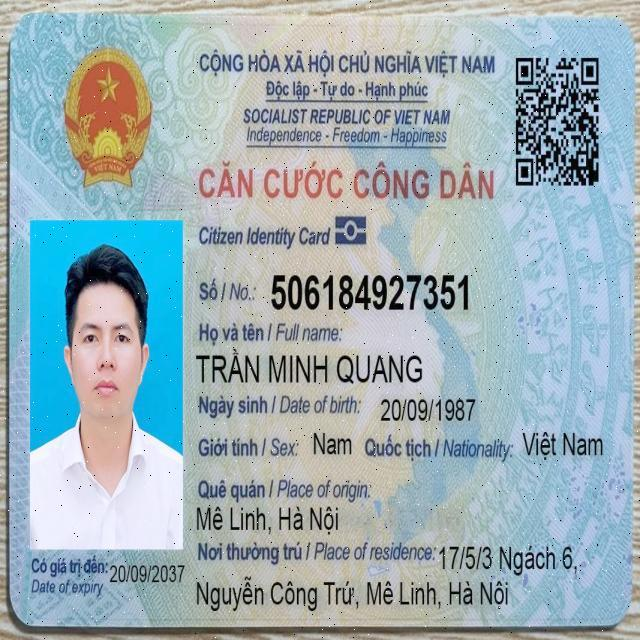current_place: (194, 573, 510, 616), (437, 539, 579, 579)
dob: (378, 394, 478, 425)
expire_date: (108, 559, 187, 587)
gender: (311, 429, 355, 459)
id: (268, 267, 472, 316)
name: (193, 344, 426, 388)
nationality: (520, 426, 606, 464)
origin_place: (193, 499, 341, 539)
qr: (512, 51, 602, 194)
